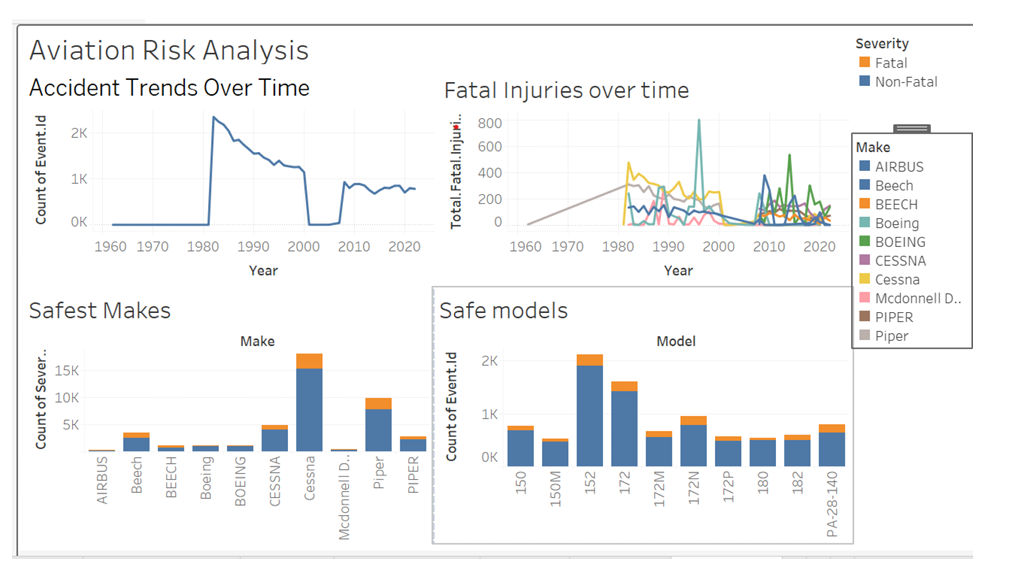

The dashboard page shown, as its layout file describes it:
{"tool":"tableau","page":{"name":"Dashboard 1","canvas":[1000,1000],"units":"permille","ordinal":0},"visuals":[{"type":"title","box":[6.2,11.4,862.5,70]},{"type":"legend","title":"Safest Makes","param":"[federated.00xo6510tyobk91621jdl04fy1px].[none:severity:nk]","box":[868.8,11.4,125,197.1]},{"type":"worksheet","title":"Accidents:Time series","mark":"Line","rows":["Event.Id"],"cols":["Year"],"box":[6.2,81.4,431.2,418.6]},{"type":"worksheet","title":"Fatal Injuries over time","mark":"Line","rows":["Total.Fatal.Injuries"],"cols":["Year"],"box":[437.5,81.4,431.2,418.6]},{"type":"legend","title":"Fatal Injuries over time","param":"[federated.00xo6510tyobk91621jdl04fy1px].[none:Make:nk]","box":[868.8,208.6,125,405.7]},{"type":"worksheet","title":"Safest Makes","mark":"Bar","rows":["severity"],"cols":["Make"],"box":[6.2,500,426.9,488.6]},{"type":"worksheet","title":"Safe models","mark":"Bar","rows":["Event.Id"],"cols":["Model"],"box":[433.2,500,435.5,488.6]}]}

Visuals, with their boxes on the dashboard's canvas, which has no fixed pixel size, in thousandths of its width and height (x1, y1, x2, y2). These are canvas units, not pixel positions in the 1021x580 screenshot, which may show the page scaled, cropped or inside an application window:
title: BBox(6, 11, 869, 81)
"Safest Makes" legend: BBox(869, 11, 994, 208)
"Accidents:Time series" worksheet (Line marks): BBox(6, 81, 437, 500)
"Fatal Injuries over time" worksheet (Line marks): BBox(438, 81, 869, 500)
"Fatal Injuries over time" legend: BBox(869, 209, 994, 614)
"Safest Makes" worksheet (Bar marks): BBox(6, 500, 433, 989)
"Safe models" worksheet (Bar marks): BBox(433, 500, 869, 989)
